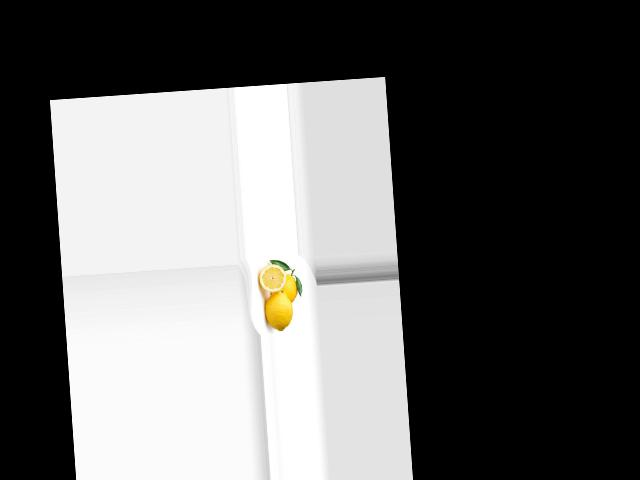lemon: (271, 269, 299, 305)
